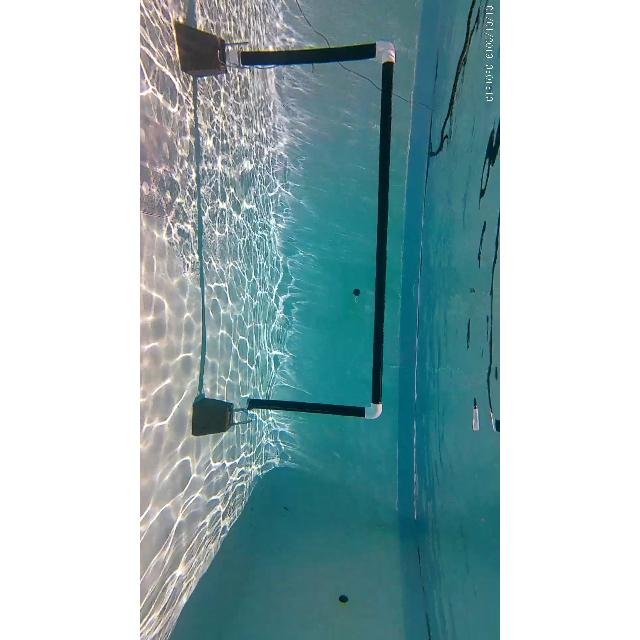prequal gate: (232, 43, 396, 421)
prequal gate leg l: (214, 39, 400, 63)
prequal gate leg r: (232, 394, 386, 421)
